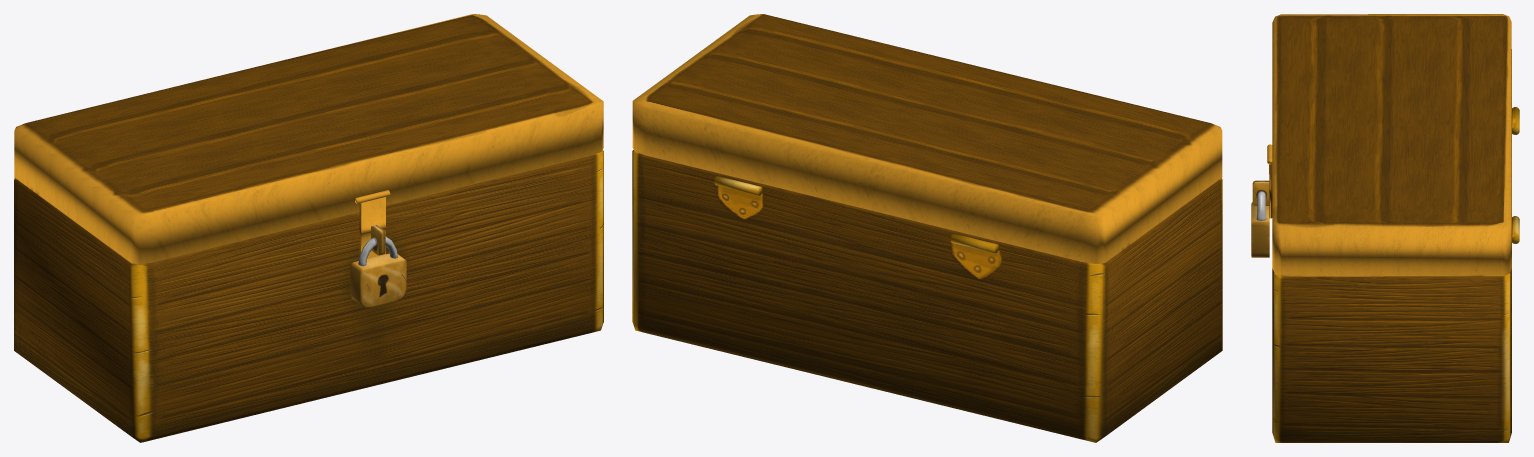
File: bau.fbx
The picture shows the model from 3 angles, left to right: view 1: azimuth 30°, elevation 25°; view 2: azimuth 150°, elevation 25°; view 3: azimuth 270°, elevation 25°; orthographic projection. The views are drawn at different scales.
Visible parts, largest first — view 1: Cylinder.001, Cube.001, Cube.002; view 2: Cylinder.001, Cube.001; view 3: Cube.001, Cylinder.001, Cube.002.
Boxes of the visible parts, x1=… form: Cylinder.001: x1=14, y1=150, x2=603, y2=442; Cube.001: x1=14, y1=14, x2=603, y2=264; Cube.002: x1=350, y1=225, x2=406, y2=307; Cylinder.001: x1=632, y1=150, x2=1222, y2=442; Cube.001: x1=632, y1=14, x2=1222, y2=263; Cube.001: x1=1267, y1=14, x2=1511, y2=276; Cylinder.001: x1=1272, y1=107, x2=1519, y2=442; Cube.002: x1=1251, y1=180, x2=1269, y2=257.
Bounding box in the file's own units: 431 × 204 × 224.
